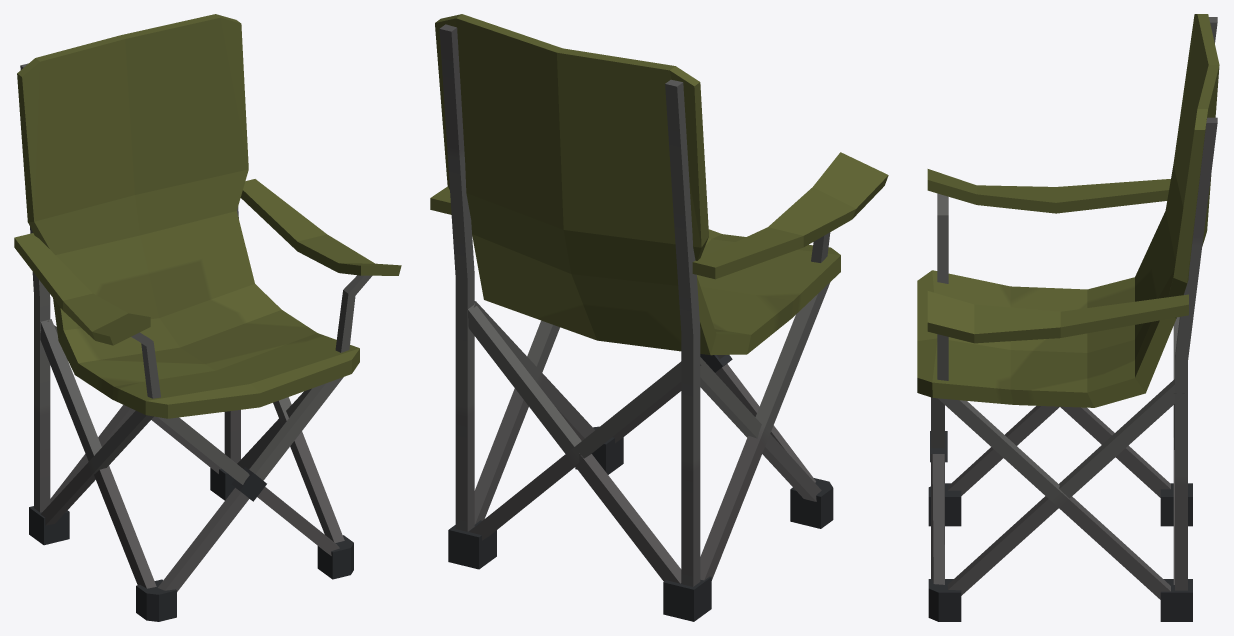
The model's file is SM_Prop_Chair_Folding_01.fbx.
3 views of the same model, side by side, from view 1: azimuth 30°, elevation 25°; view 2: azimuth 150°, elevation 25°; view 3: azimuth 270°, elevation 25° (orthographic). The views are drawn at different scales.
Parts seen in each view (by area): view 1: SM_Prop_Chair_Folding_01; view 2: SM_Prop_Chair_Folding_01; view 3: SM_Prop_Chair_Folding_01.
Boxes of the visible parts, x1=… form: SM_Prop_Chair_Folding_01: x1=14, y1=14, x2=401, y2=621; SM_Prop_Chair_Folding_01: x1=430, y1=14, x2=888, y2=621; SM_Prop_Chair_Folding_01: x1=917, y1=14, x2=1219, y2=621.
Bounding box in the file's own units: 73.61 × 113 × 61.09.
